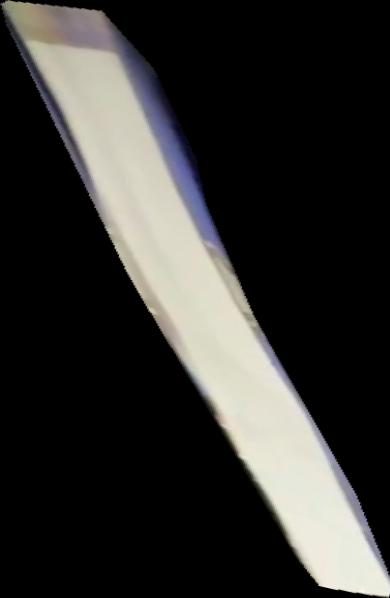backward: (1, 1, 390, 598)
